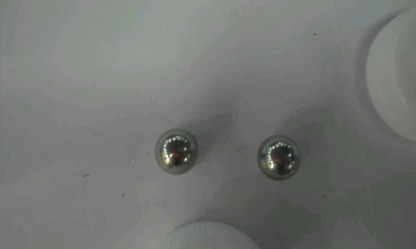ironball: (153, 127, 198, 175), (256, 134, 301, 181)
